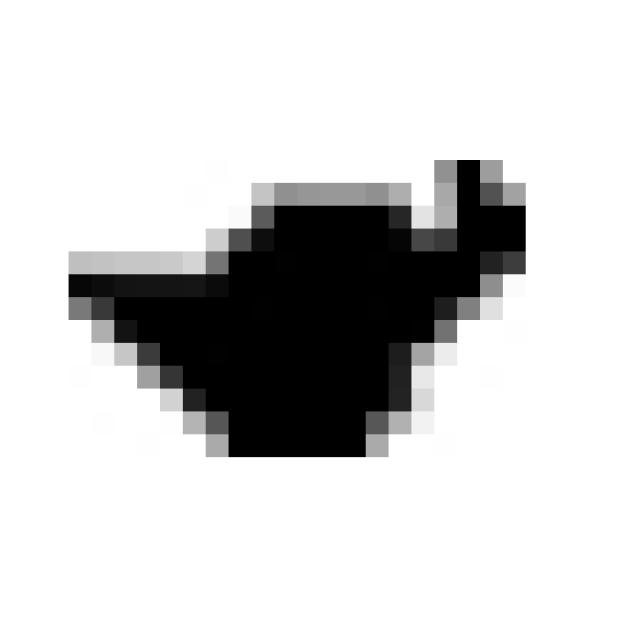0 -zero-: (52, 137, 546, 477)
